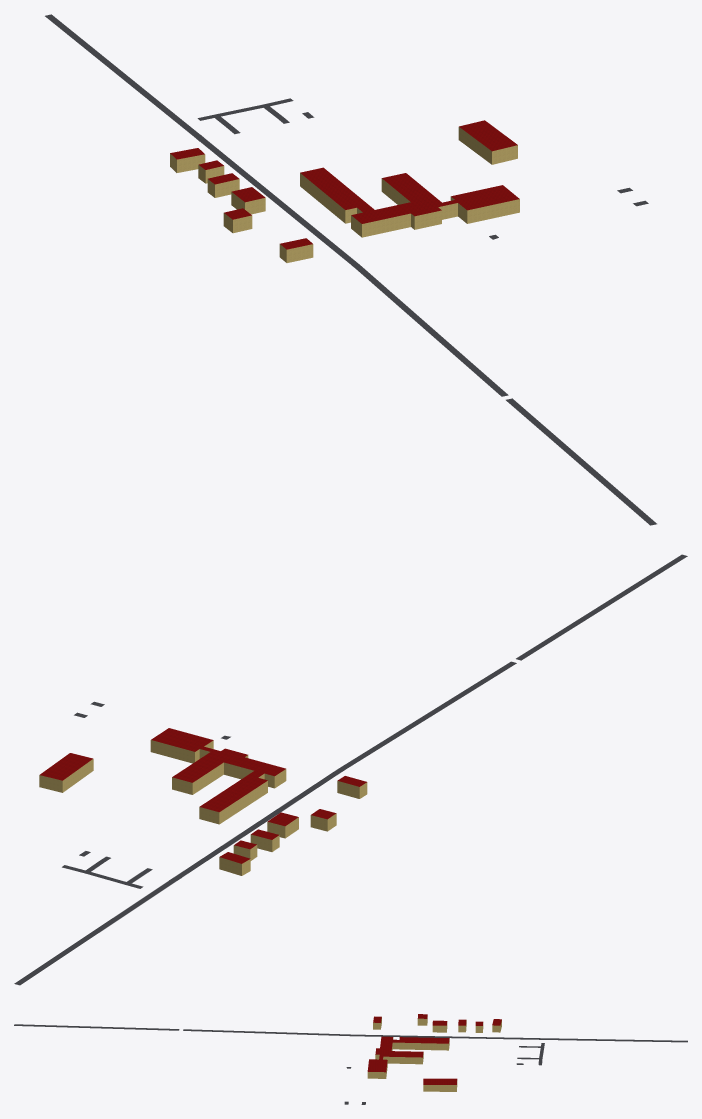
File: district_1_-1.glb
3 renders of one model, top to bottom at view 1: azimuth 30°, elevation 25°; view 2: azimuth 150°, elevation 25°; view 3: azimuth 270°, elevation 25°, orthographic. The views are drawn at different scales.
Parts seen in each view (by area): view 1: Building w44036457, Road улица Даля, Building w625363655; view 2: Building w44036457, Road улица Даля, Building w625363655; view 3: Building w44036457, Road улица Даля, Building w625363655, Building w625363649.
Boxes of the visible parts, x1=… form: Building w44036457: x1=300, y1=167, x2=519, y2=237; Road улица Даля: x1=45, y1=14, x2=656, y2=525; Building w625363655: x1=458, y1=120, x2=517, y2=164; Building w44036457: x1=150, y1=728, x2=286, y2=824; Road улица Даля: x1=14, y1=554, x2=687, y2=985; Building w625363655: x1=39, y1=753, x2=93, y2=792; Building w44036457: x1=367, y1=1036, x2=449, y2=1078; Road улица Даля: x1=14, y1=1024, x2=687, y2=1042; Building w625363655: x1=423, y1=1078, x2=457, y2=1091; Building w625363649: x1=432, y1=1020, x2=447, y2=1032.
Bounding box in the file's own units: 199 × 7.5 × 675.
3 materials, 3 textured.
